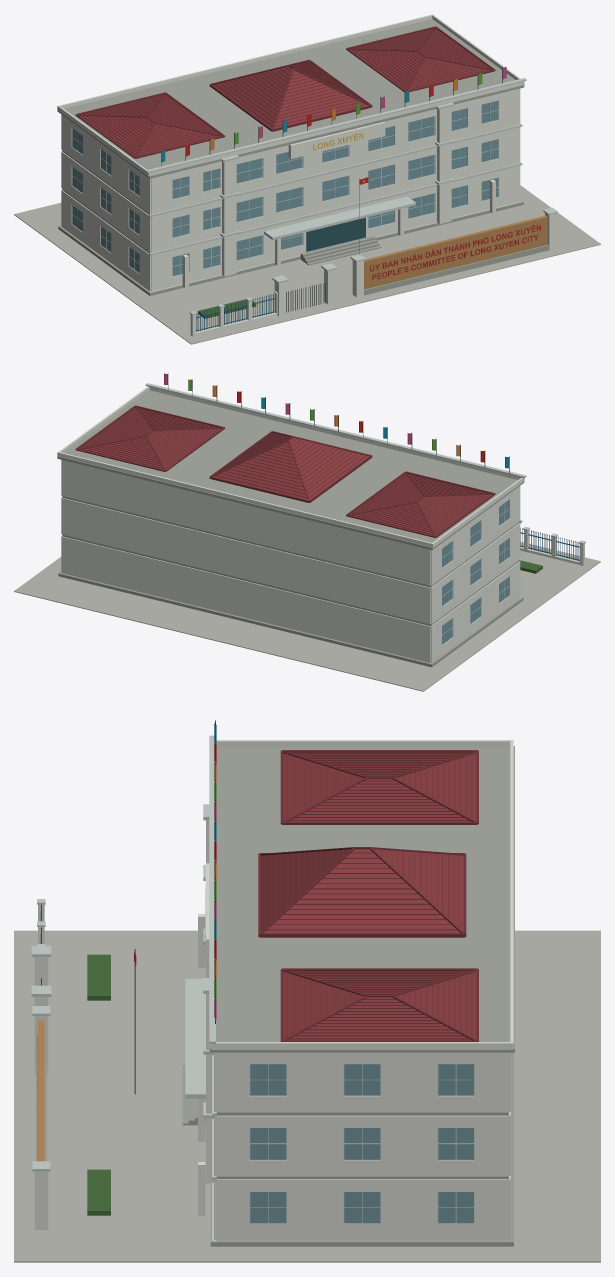
Rendered from long-xuyen-civic-office.glb.
3 renders of one model, top to bottom at view 1: azimuth 30°, elevation 25°; view 2: azimuth 150°, elevation 25°; view 3: azimuth 270°, elevation 25°, orthographic. The views are drawn at different scales.
Visible parts, largest first — view 1: walls__civic_white, site_paving__paving, roof__roof_red, roof__concrete, glazing__civic_glass, roof_tile_courses__roof_red_trim, sign_board__ochre_sign, roof_parapet__civic_white, facade_pilasters__civic_white, window_frames__civic_trim, floor_bands__civic_trim, roof_eaves__roof_red_trim (+17 smaller); view 2: walls__civic_white, roof__concrete, site_paving__paving, roof__roof_red, roof_tile_courses__roof_red_trim, roof_parapet__civic_white, roof_eaves__roof_red_trim, foundation__concrete, floors__concrete, glazing__civic_glass, roof_cornice__civic_trim, roof_ridges__roof_red_trim (+2 smaller); view 3: site_paving__paving, walls__civic_white, roof__concrete, roof__roof_red, roof_tile_courses__roof_red_trim, glazing__civic_glass, roof_parapet__civic_white, roof_eaves__roof_red_trim, roof_ridges__roof_red_trim, foundation__concrete, window_frames__civic_trim, entry_canopy__civic_trim (+7 smaller).
Boxes of the visible parts, x1,y1,x2,y2 form: walls__civic_white: (61, 88, 520, 291); site_paving__paving: (14, 185, 600, 344); roof__roof_red: (79, 28, 491, 156); roof__concrete: (57, 19, 524, 178); glazing__civic_glass: (72, 101, 498, 275); roof_tile_courses__roof_red_trim: (81, 29, 489, 155); sign_board__ochre_sign: (364, 215, 547, 289); roof_parapet__civic_white: (57, 14, 524, 176); facade_pilasters__civic_white: (222, 106, 451, 276); window_frames__civic_trim: (72, 100, 498, 276); floor_bands__civic_trim: (149, 123, 522, 292); roof_eaves__roof_red_trim: (75, 26, 495, 158); walls__civic_white: (61, 460, 520, 662); roof__concrete: (57, 390, 524, 549); site_paving__paving: (14, 542, 600, 691); roof__roof_red: (79, 407, 491, 535); roof_tile_courses__roof_red_trim: (82, 408, 489, 534); roof_parapet__civic_white: (57, 386, 524, 547); roof_eaves__roof_red_trim: (75, 405, 495, 537); foundation__concrete: (58, 571, 523, 667); floors__concrete: (62, 496, 519, 626); glazing__civic_glass: (442, 500, 509, 644); roof_cornice__civic_trim: (145, 383, 526, 478); roof_ridges__roof_red_trim: (78, 406, 492, 536); site_paving__paving: (14, 930, 600, 1262); walls__civic_white: (214, 1052, 510, 1240); roof__concrete: (209, 746, 514, 1052); roof__roof_red: (261, 752, 476, 1040); roof_tile_courses__roof_red_trim: (265, 753, 472, 1039); glazing__civic_glass: (250, 1064, 473, 1223); roof_parapet__civic_white: (211, 740, 513, 1049); roof_eaves__roof_red_trim: (258, 750, 478, 1041); roof_ridges__roof_red_trim: (259, 751, 476, 1040); foundation__concrete: (210, 1052, 513, 1246); window_frames__civic_trim: (249, 1064, 474, 1224); entry_canopy__civic_trim: (185, 978, 205, 1098).
Size of the model in its own units: 40 by 14.09 by 30.
